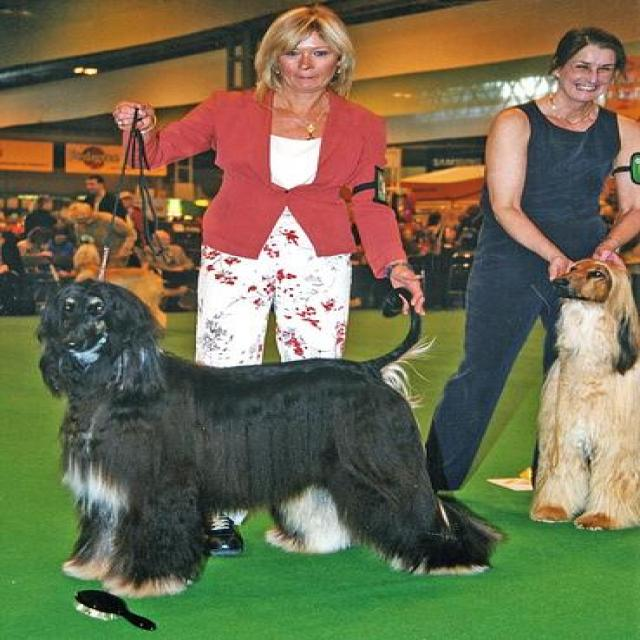afghan_hound: (36, 279, 498, 597), (524, 254, 636, 528)
